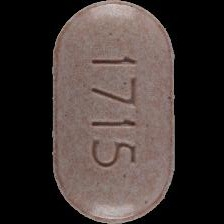70786-1715: (0, 0, 224, 224)
